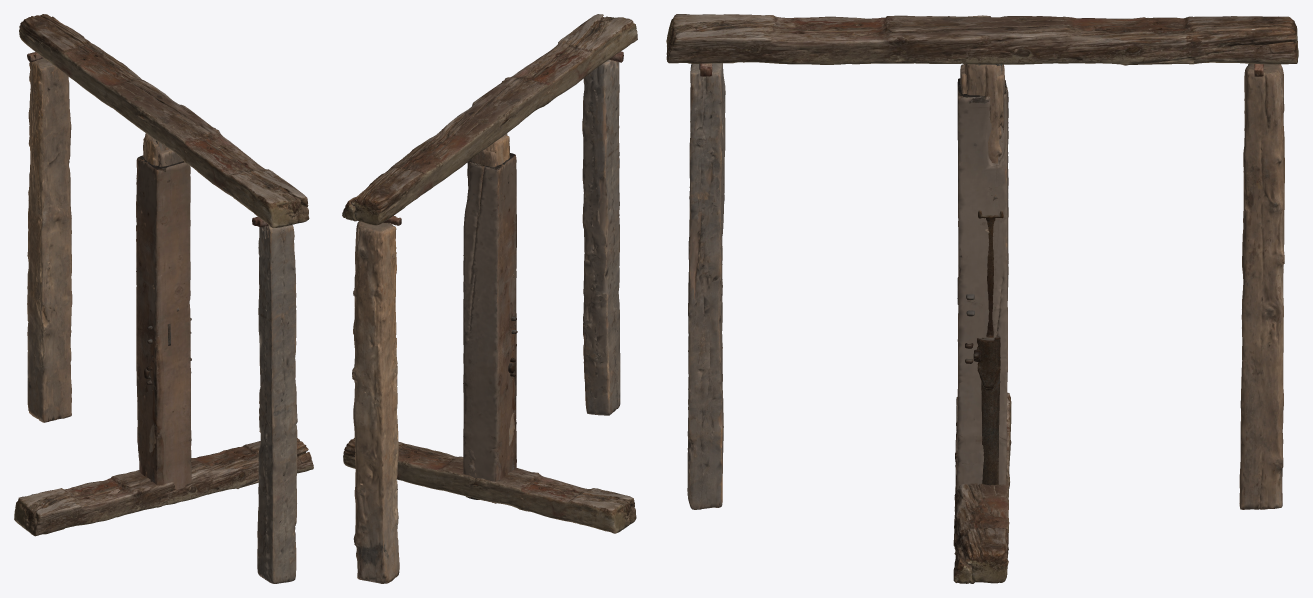
The model's file is MineAlt_Ausbau.glb.
The picture shows the model from 3 angles, left to right: view 1: azimuth 30°, elevation 25°; view 2: azimuth 150°, elevation 25°; view 3: azimuth 270°, elevation 25°; orthographic projection. The views are drawn at different scales.
Visible parts, largest first — view 1: tuerstock, stempel_4, kappe, stempel_2; view 2: tuerstock, stempel_4, kappe, stempel_2, stempel_3; view 3: tuerstock, stempel_4, kappe, stahlstempel_2, stempel_2.
Boxes of the visible parts, x1,y1,x2,y2 form: tuerstock: (19, 14, 309, 583); stempel_4: (136, 155, 191, 507); kappe: (14, 438, 313, 536); stempel_2: (143, 133, 169, 165); tuerstock: (342, 14, 637, 583); stempel_4: (463, 153, 516, 503); kappe: (343, 438, 636, 533); stempel_2: (484, 134, 509, 166); stempel_3: (467, 143, 509, 186); tuerstock: (666, 14, 1298, 509); stempel_4: (956, 78, 1008, 490); kappe: (953, 392, 1011, 583); stahlstempel_2: (965, 210, 1003, 485); stempel_2: (964, 64, 1003, 200).
Size of the model in its own units: 1.99 by 2.67 by 3.2.
14 materials, 14 textured.
